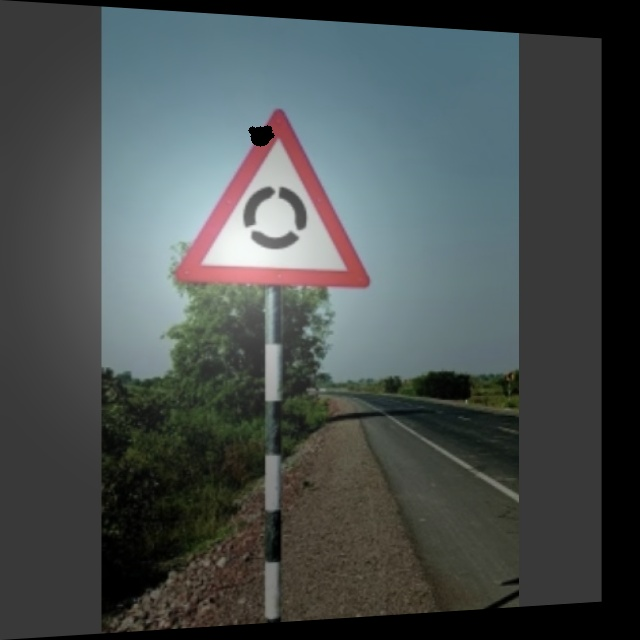Round_About: (169, 101, 381, 292)
